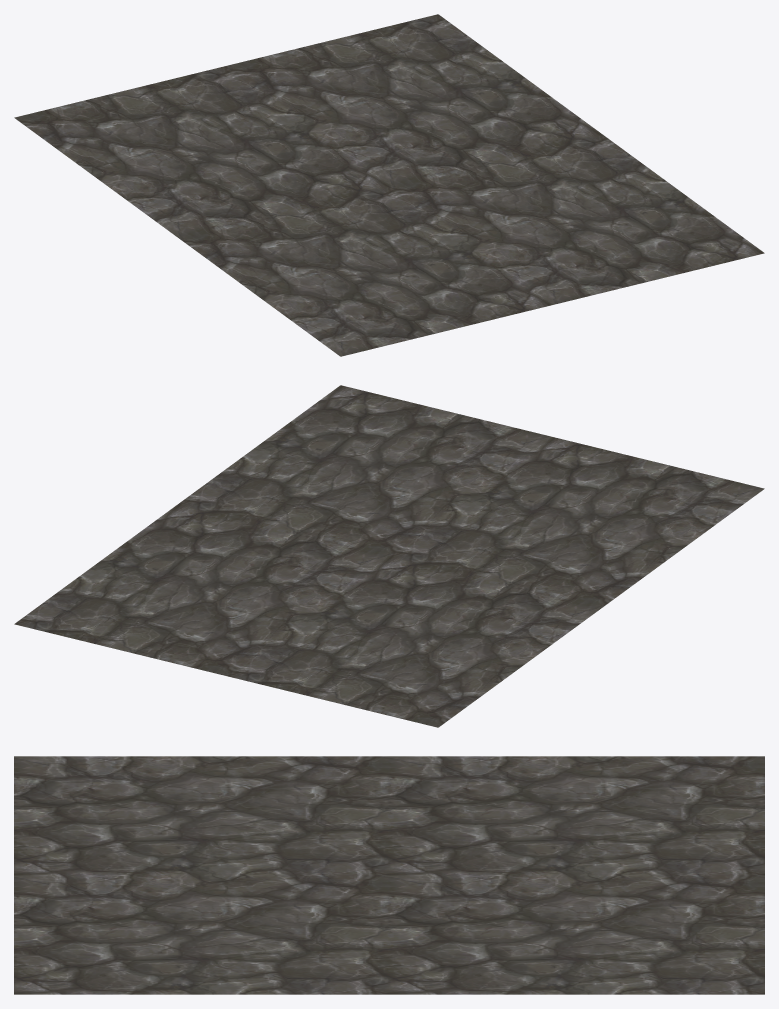
The model's file is Cave_Ground.FBX.
3 views of the same model, one above another, from view 1: azimuth 30°, elevation 25°; view 2: azimuth 150°, elevation 25°; view 3: azimuth 270°, elevation 25° (orthographic). The views are drawn at different scales.
Visible parts, largest first — view 1: Cave_ground; view 2: Cave_ground; view 3: Cave_ground.
Part boxes in pixels (left/top/right/bottom): Cave_ground: left=14, top=14, right=764, bottom=356; Cave_ground: left=14, top=385, right=764, bottom=727; Cave_ground: left=14, top=756, right=764, bottom=994.
Size of the model in its own units: 600 by 0.00013 by 800.
1 material, 1 textured.
